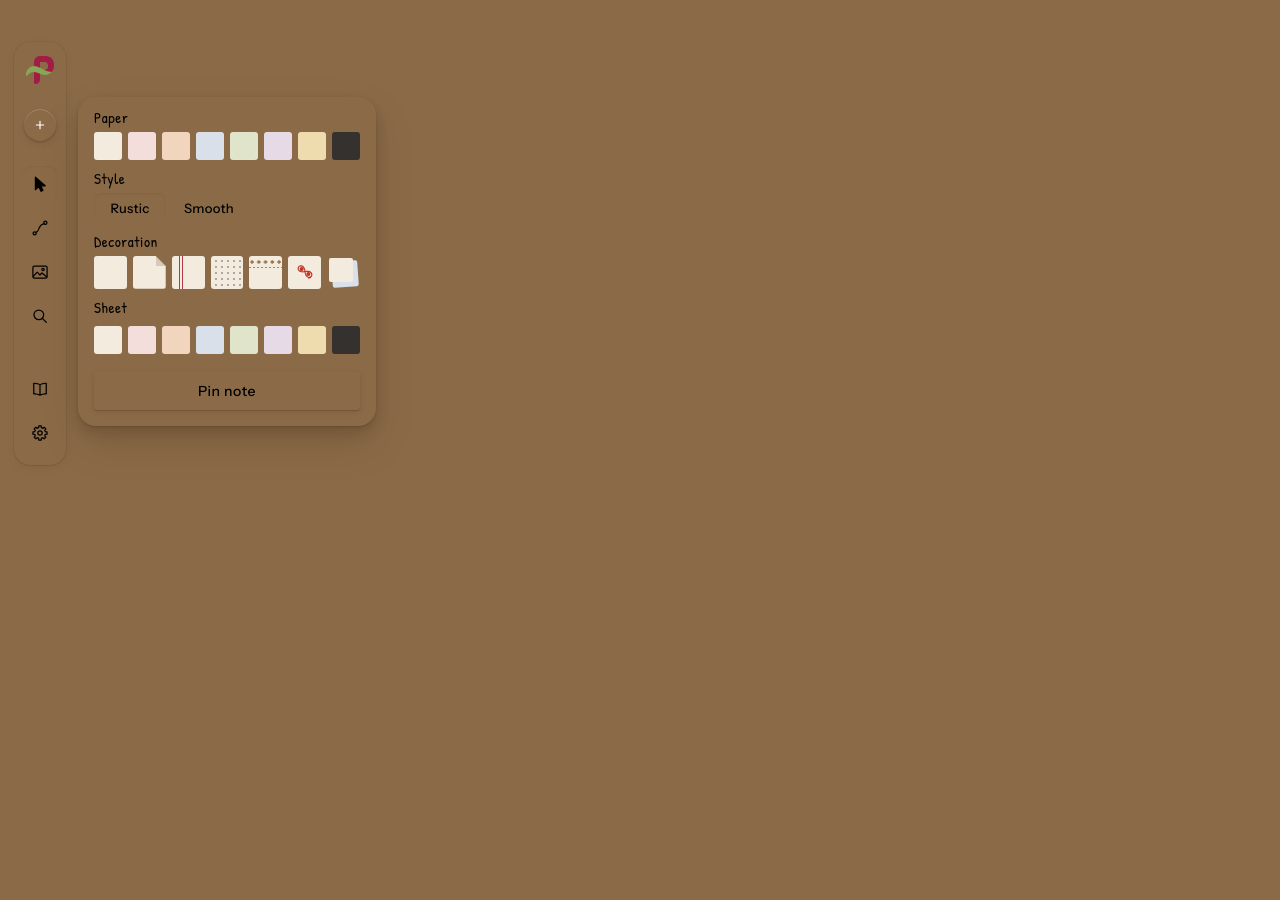
sidebar › a layered sheet unfolds its colours; Esc leaves without pinning or remembering
Earlier steps of the test are not shown.
Click the button "Pin note" at (227, 391), box [94,372,360,410]
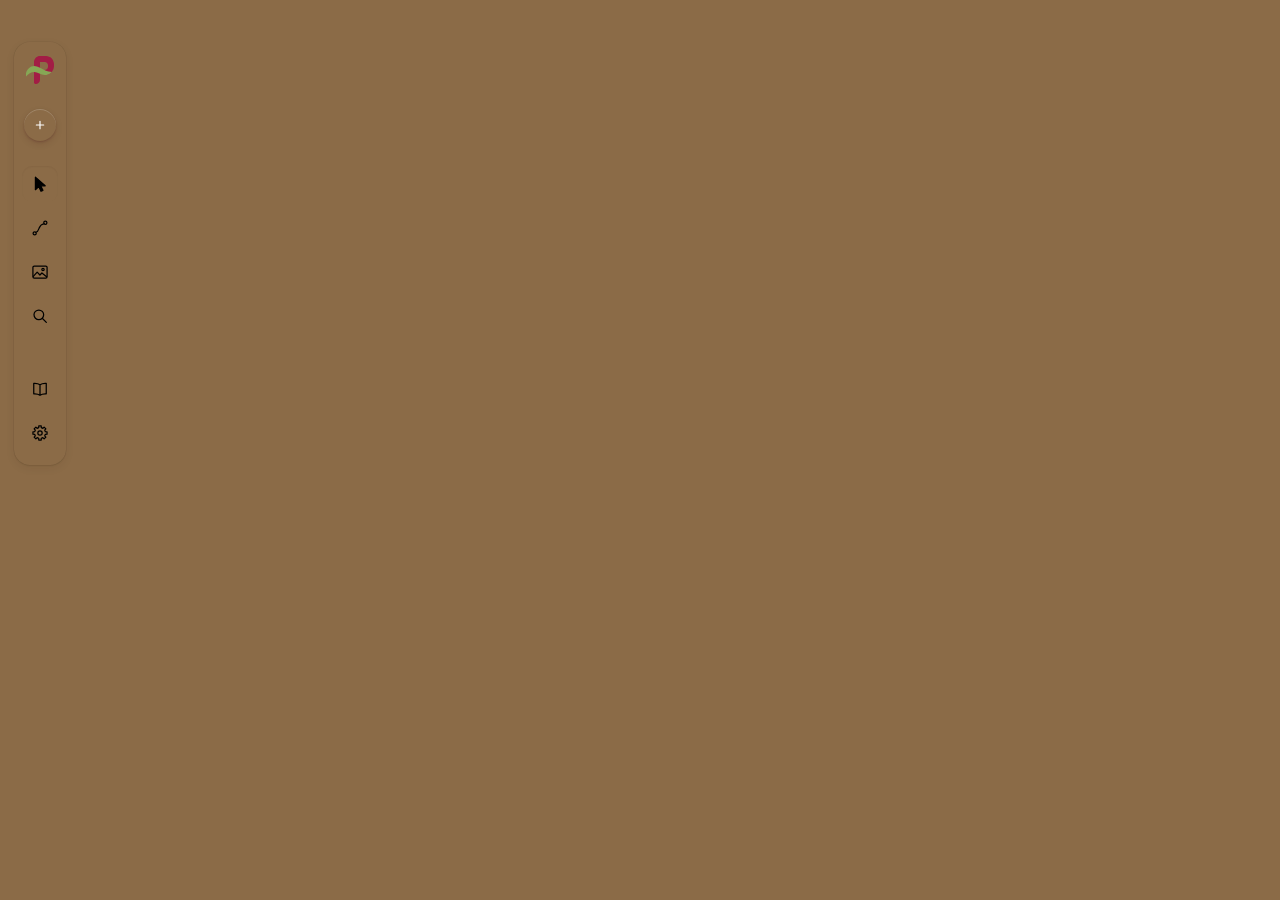
Click the button named "New note" at (40, 125), box [24,109,56,141]
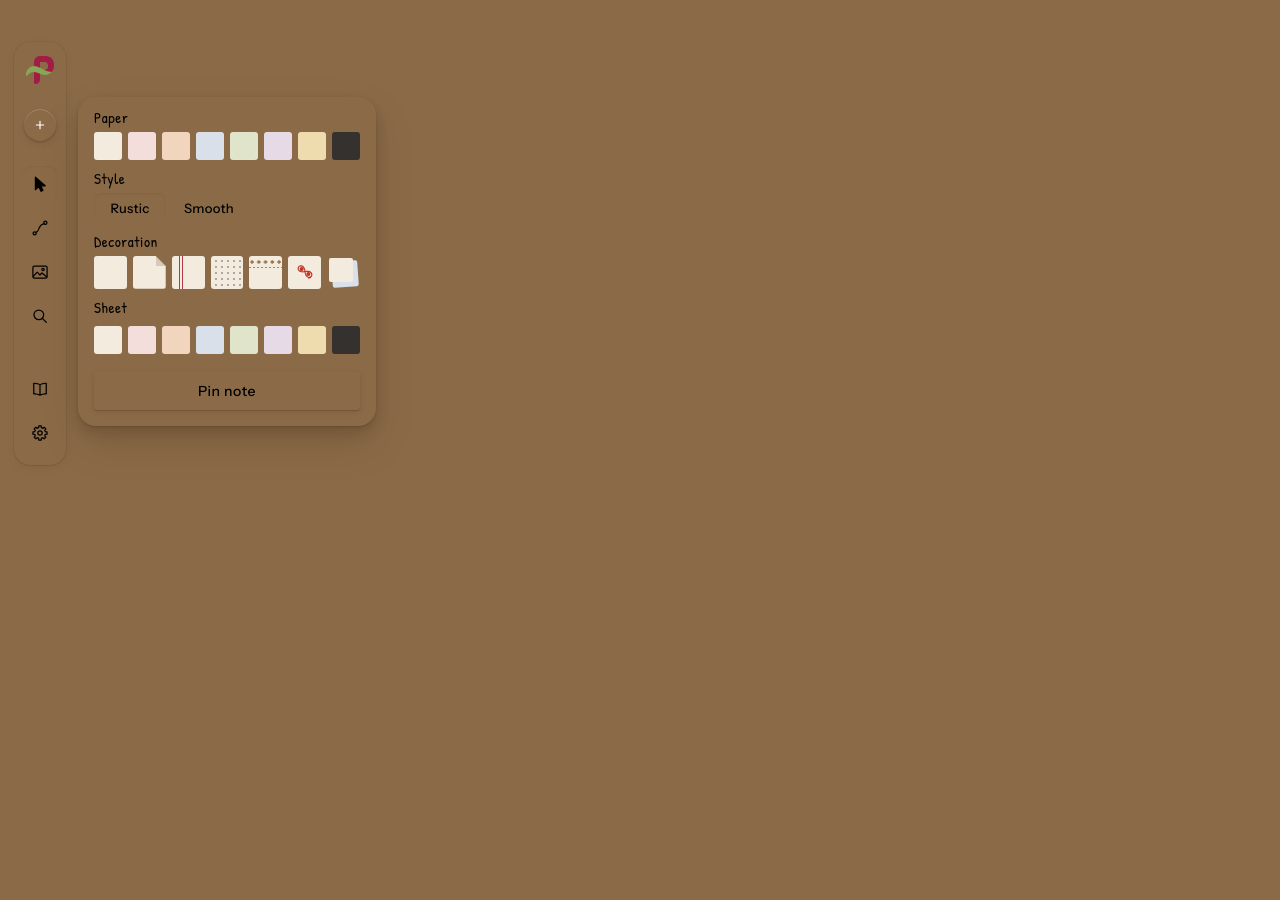
Expected: the radio button named "Layered sheet" is checked, [327,256,360,289]
Click the radio button named "Ink" below "Paper" at (346, 146), box [332,132,360,160]
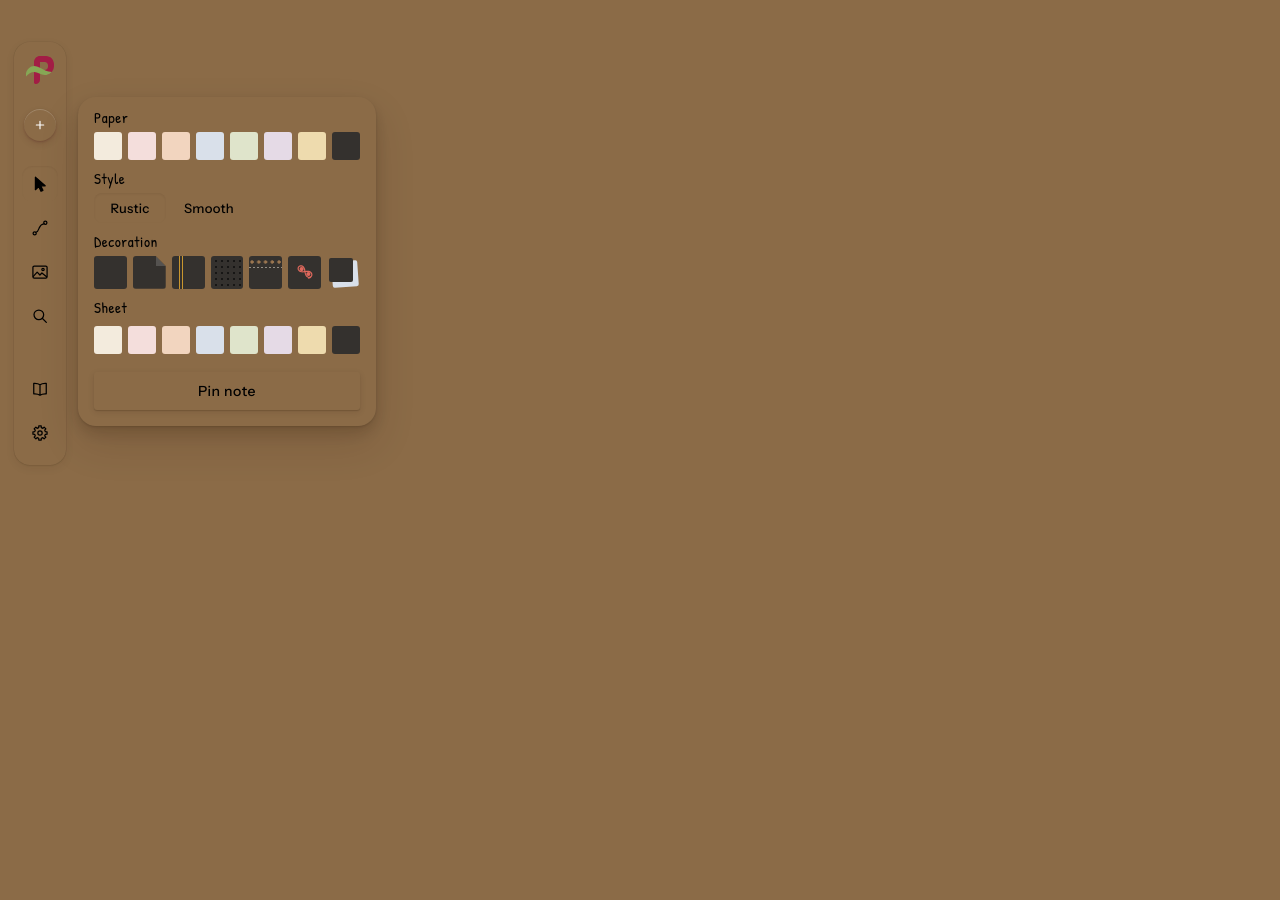
Press Escape in the dialog named "New note", box [78,97,376,426]
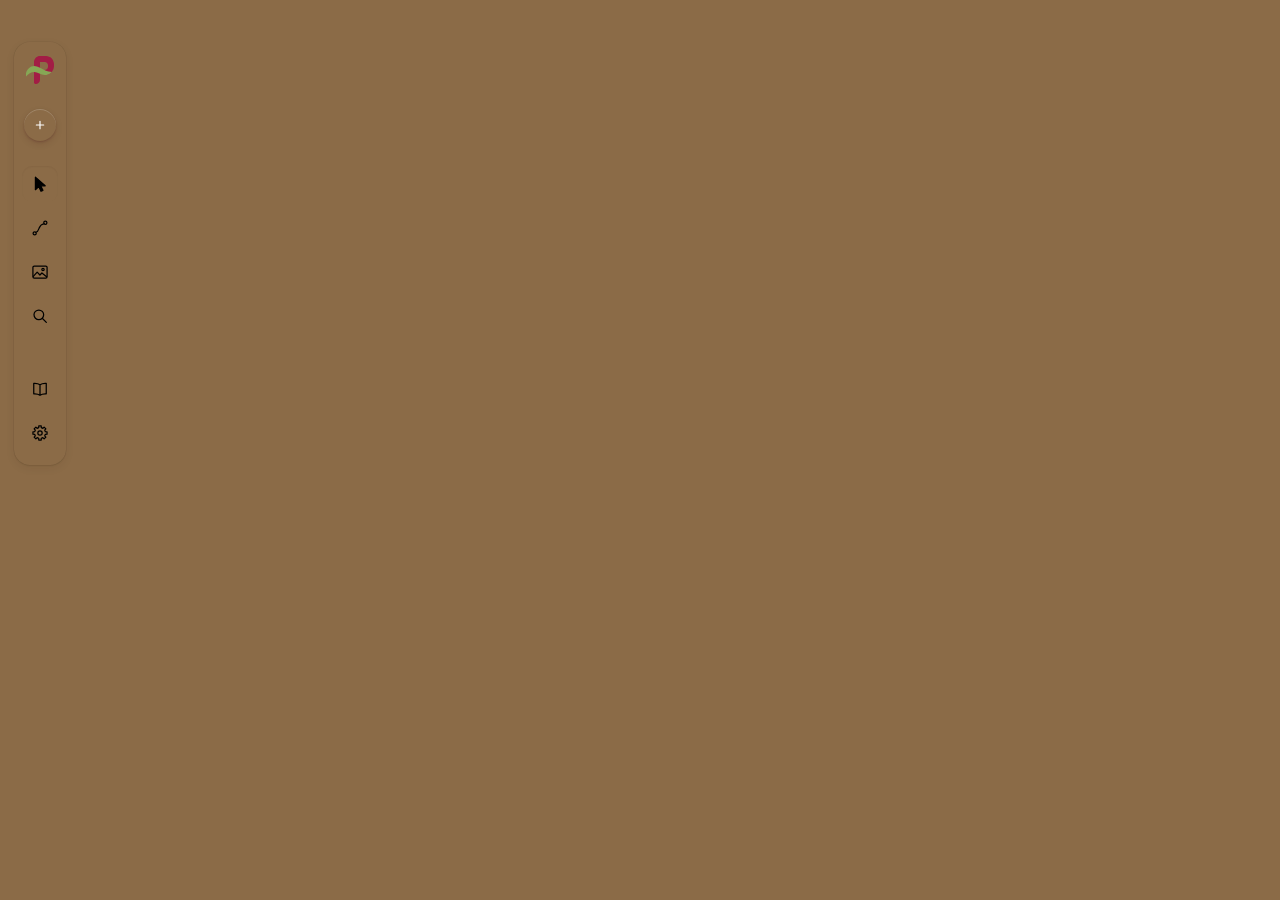
Expected: the dialog is gone
"+" again while it is open closes it too.
Click the button named "New note" at (40, 125), box [24,109,56,141]
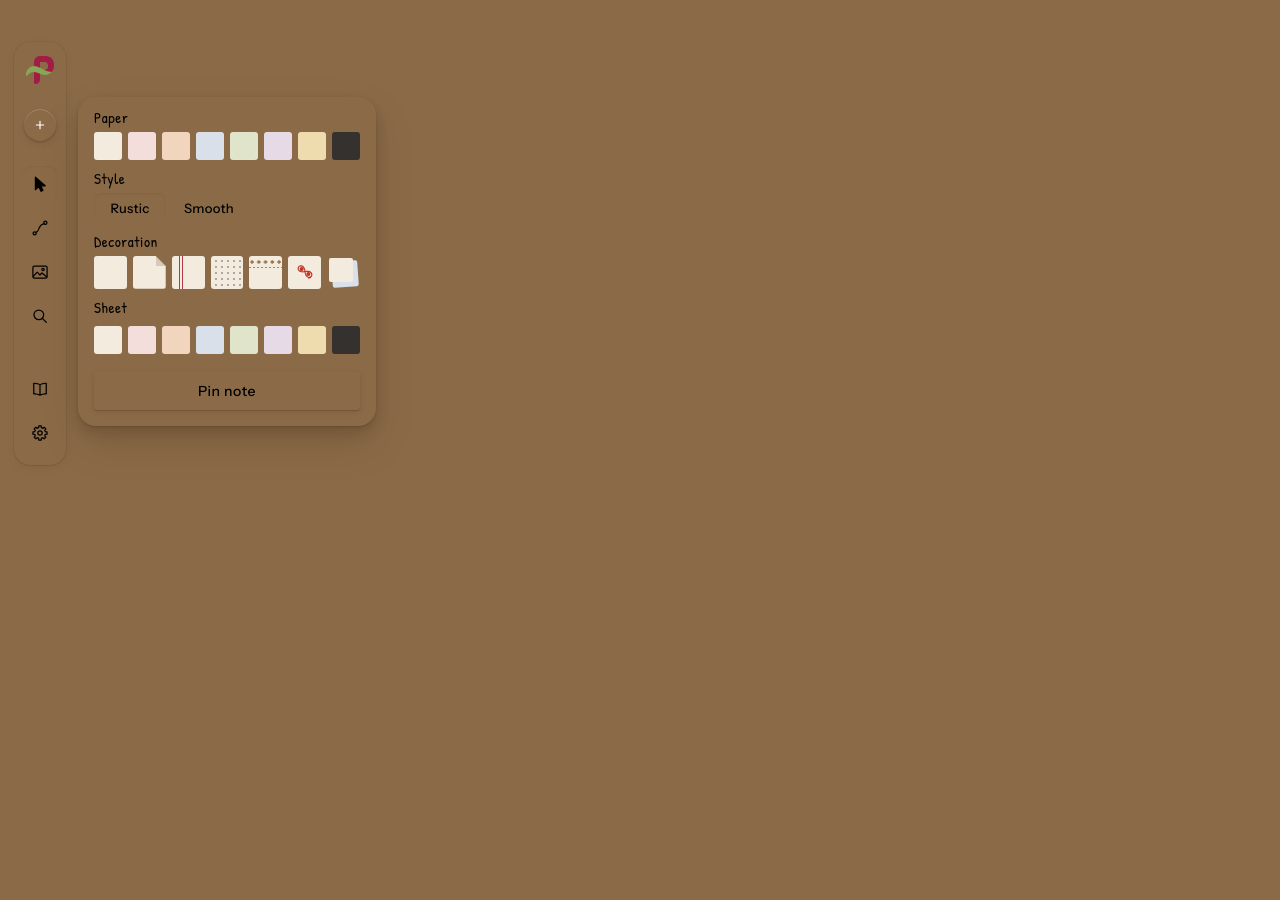
Click the button named "New note" at (40, 125), box [24,109,56,141]
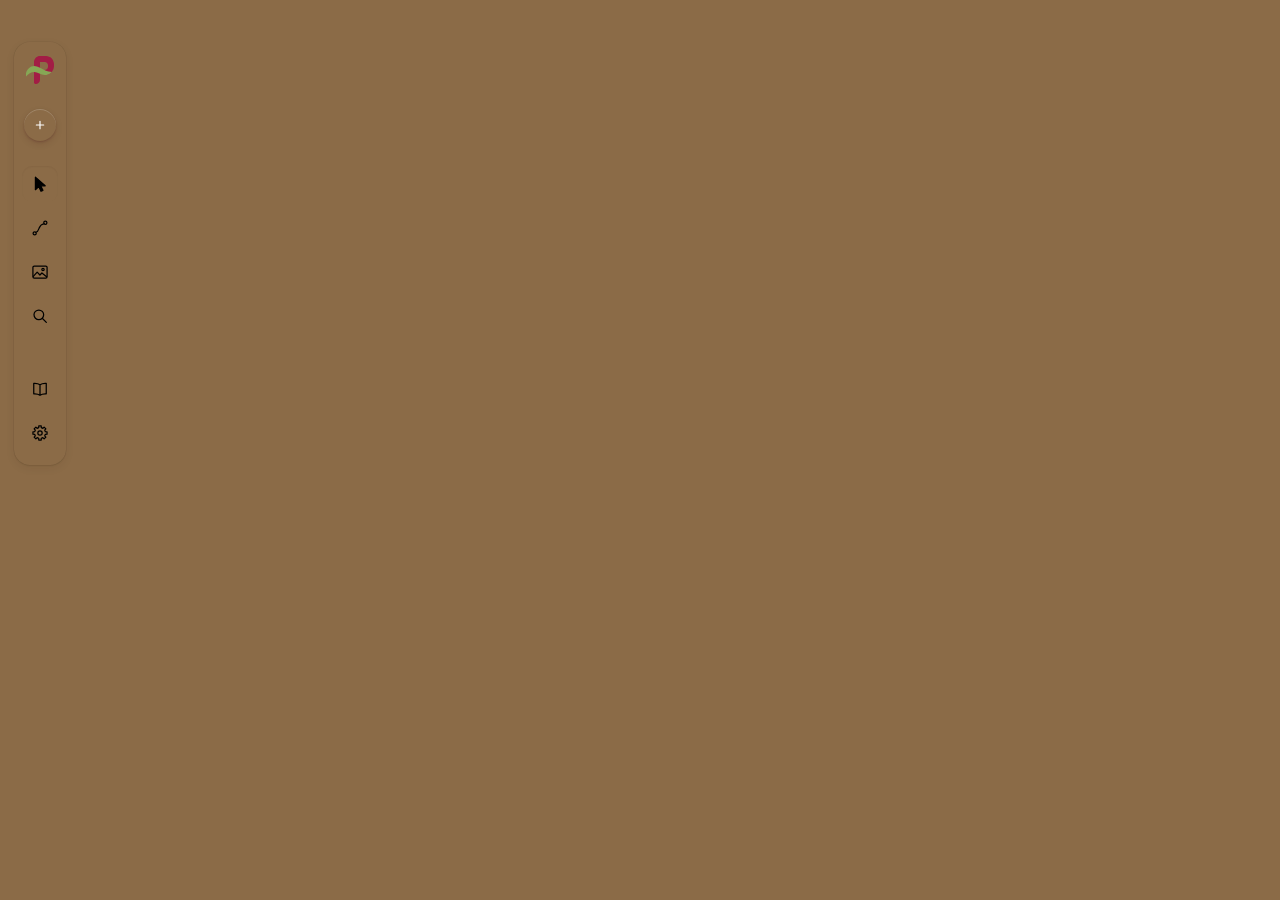
Expected: the dialog is gone
